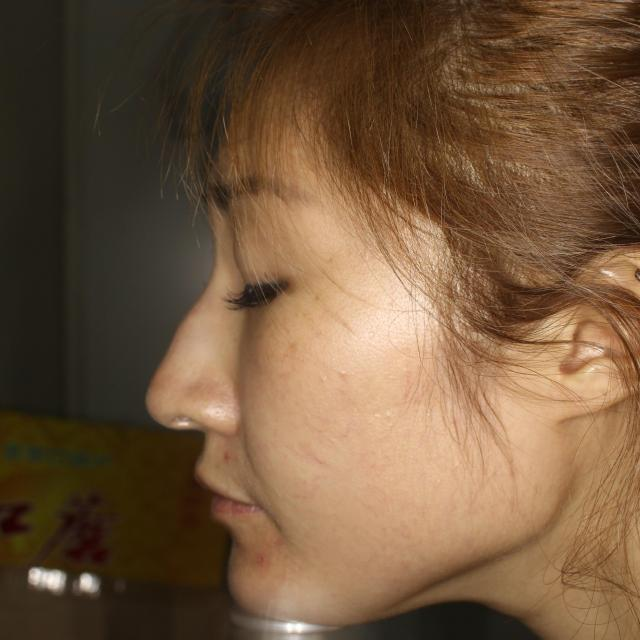comedone: (251, 540, 273, 577), (212, 441, 236, 473)
